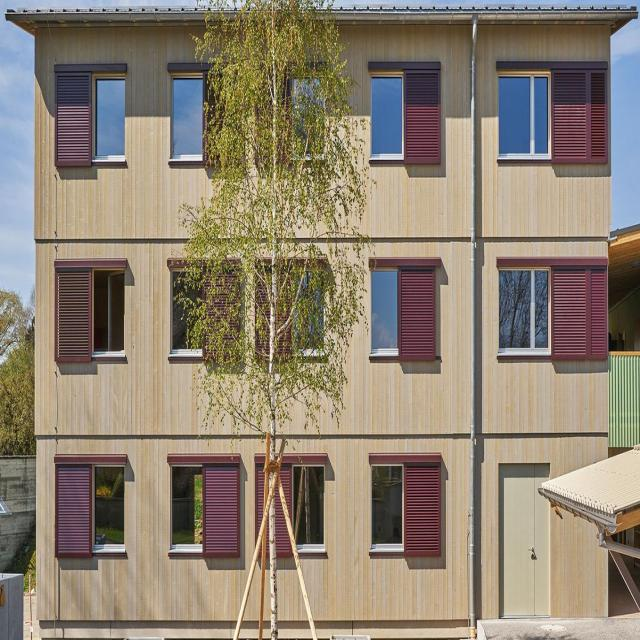door: (497, 461, 551, 622)
window: (498, 263, 551, 355), (498, 77, 548, 157), (369, 466, 403, 551), (170, 268, 203, 355), (170, 70, 203, 157), (171, 466, 204, 552), (92, 465, 125, 551), (91, 268, 124, 354), (91, 70, 124, 156), (292, 468, 325, 552), (292, 270, 324, 354), (292, 73, 324, 157), (372, 79, 404, 153), (372, 271, 397, 351)
